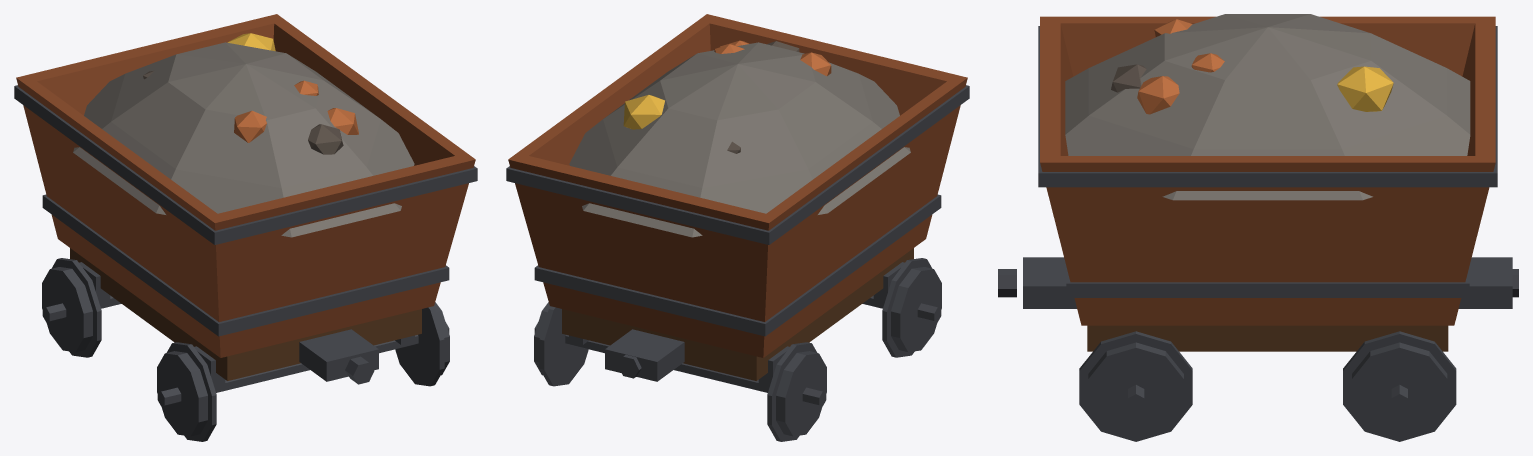
File: mine_cart_ore.glb
The picture shows the model from 3 angles, left to right: view 1: azimuth 30°, elevation 25°; view 2: azimuth 150°, elevation 25°; view 3: azimuth 270°, elevation 25°; orthographic projection. The views are drawn at different scales.
Visible parts, largest first — view 1: mine_cart_ore; view 2: mine_cart_ore; view 3: mine_cart_ore.
Part boxes in pixels (bbox=[...]): mine_cart_ore: bbox=[14, 14, 477, 441]; mine_cart_ore: bbox=[506, 14, 969, 441]; mine_cart_ore: bbox=[998, 14, 1518, 441].
Size of the model in its own units: 1.2 by 1.23 by 1.66.
